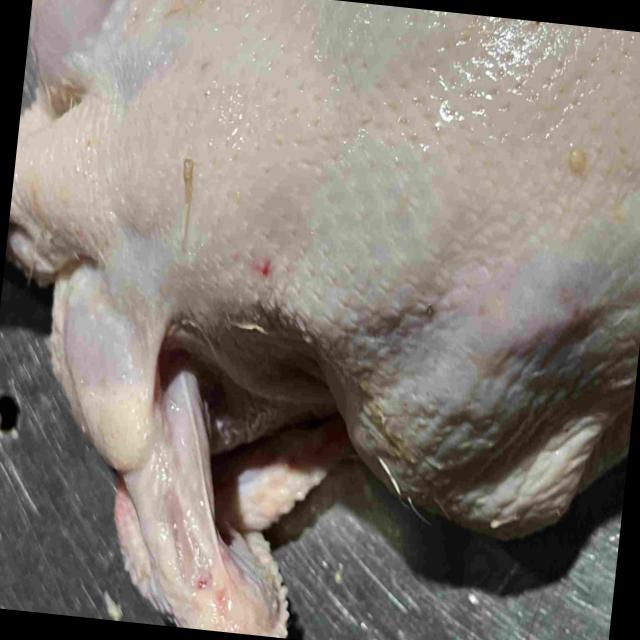back: (142, 0, 640, 367)
leg: (350, 383, 634, 537)
neck: (4, 80, 135, 271)
wing: (45, 312, 353, 638), (30, 0, 161, 54)
